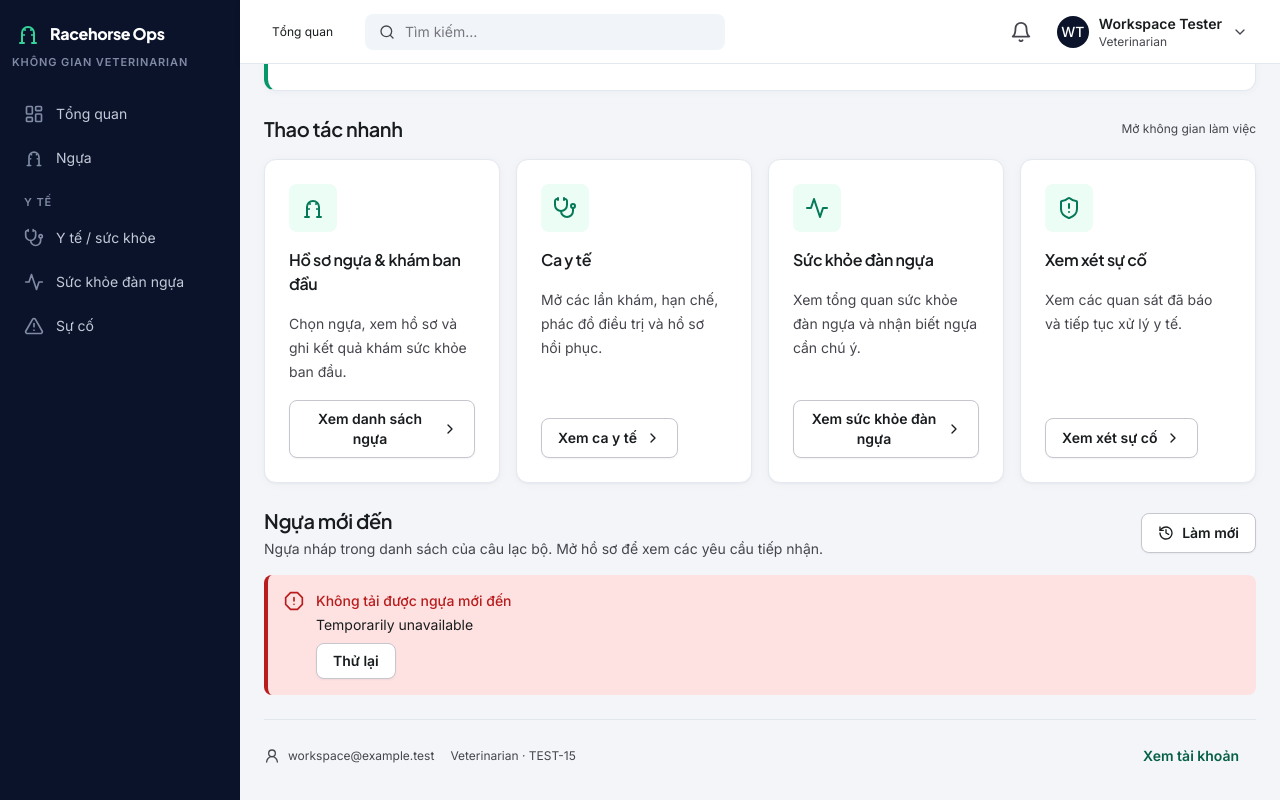
Test: shows an error without invented arrivals and retries the live resource
(page scrolled)
Expected: the text "Không tải được ngựa mới đến" is shown, x1=316 y1=592 x2=512 y2=609
Expected: the text "Test arrival" is not shown
Step 1. Click the button "Thử lại" → x=356, y=661, box x1=316 y1=643 x2=396 y2=679
(page scrolled)
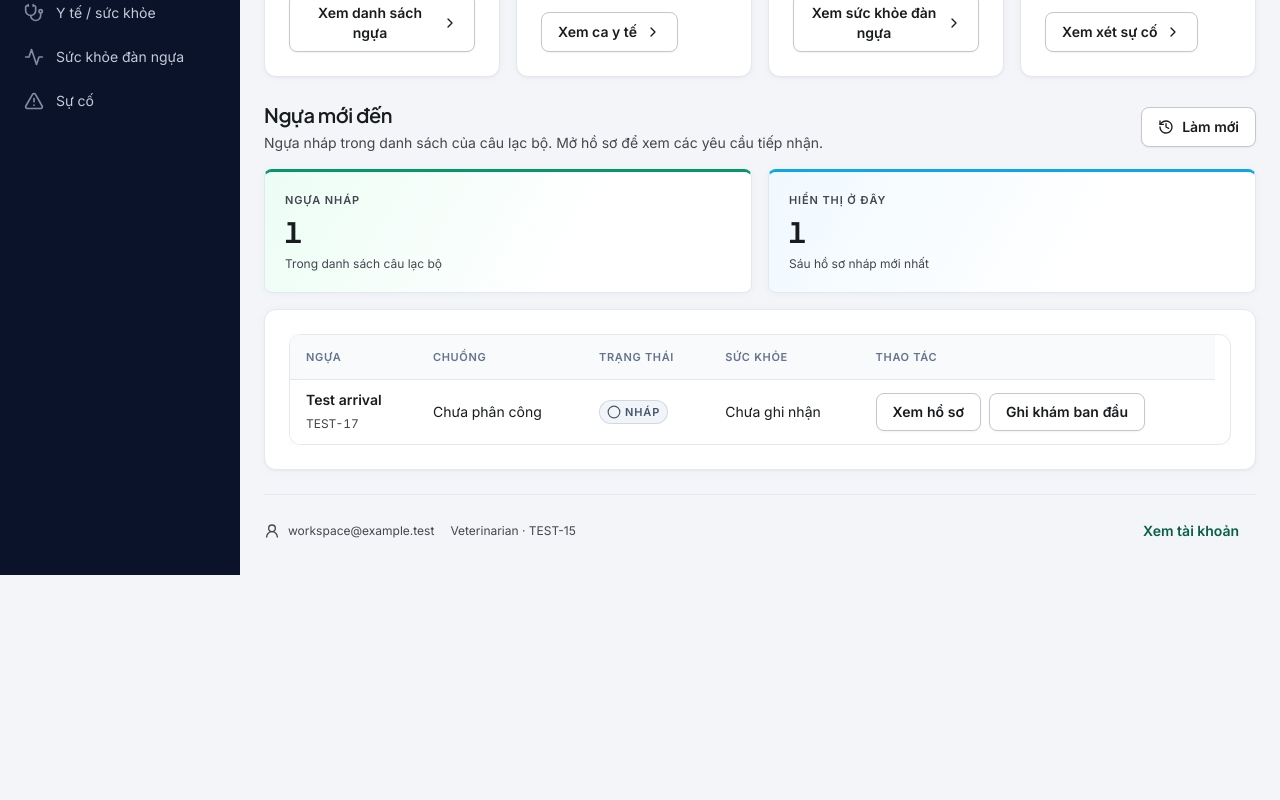
Expected: the text "Test arrival" is shown, x1=306 y1=391 x2=382 y2=408
